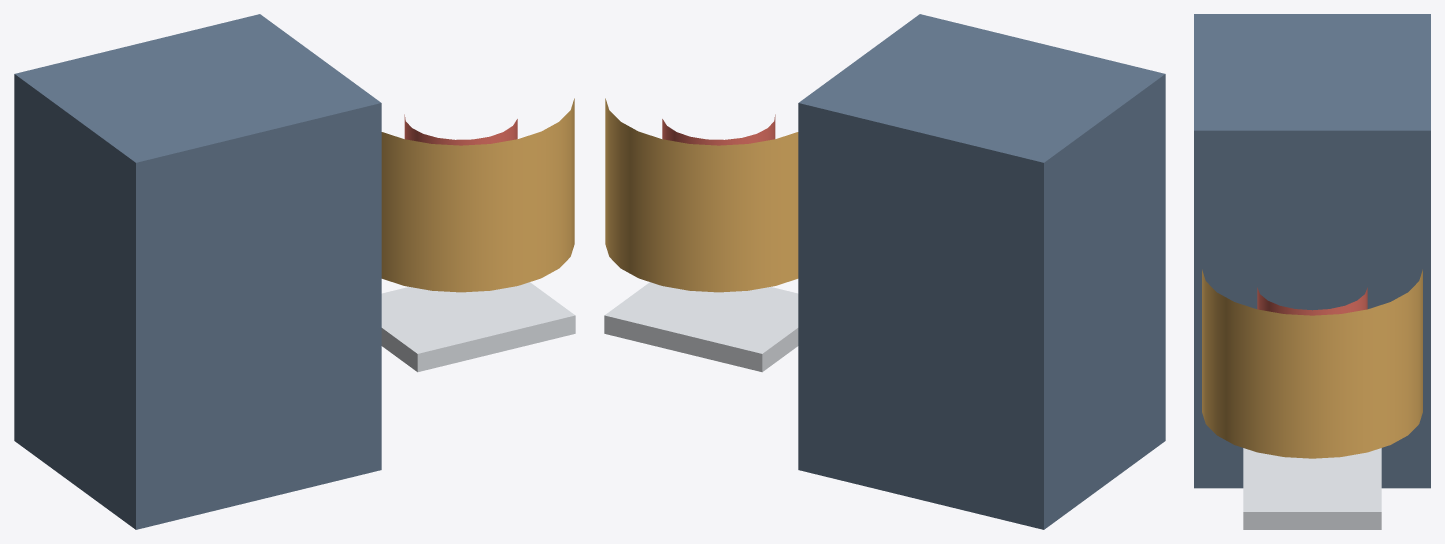
The model's file is dielectric_induction_heating.glb.
The picture shows the model from 3 angles, left to right: view 1: azimuth 30°, elevation 25°; view 2: azimuth 150°, elevation 25°; view 3: azimuth 270°, elevation 25°; orthographic projection. The views are drawn at different scales.
Parts seen in each view (by area): view 1: RFPowerGeneratorCabinet, WaterCooledInductionWorkCoil, DielectricParallelPlatesFixture, SolidSteelWorkpieceBillet; view 2: RFPowerGeneratorCabinet, WaterCooledInductionWorkCoil, DielectricParallelPlatesFixture, SolidSteelWorkpieceBillet; view 3: RFPowerGeneratorCabinet, WaterCooledInductionWorkCoil, DielectricParallelPlatesFixture, SolidSteelWorkpieceBillet.
Boxes of the visible parts, box(x1,y1,x2,y2) form: RFPowerGeneratorCabinet: box(14, 14, 381, 529); WaterCooledInductionWorkCoil: box(381, 98, 574, 292); DielectricParallelPlatesFixture: box(381, 282, 575, 372); SolidSteelWorkpieceBillet: box(404, 114, 517, 145); RFPowerGeneratorCabinet: box(798, 14, 1165, 529); WaterCooledInductionWorkCoil: box(605, 98, 798, 292); DielectricParallelPlatesFixture: box(604, 282, 798, 372); SolidSteelWorkpieceBillet: box(662, 114, 775, 145); RFPowerGeneratorCabinet: box(1194, 14, 1430, 488); WaterCooledInductionWorkCoil: box(1202, 269, 1422, 458); DielectricParallelPlatesFixture: box(1243, 448, 1381, 529); SolidSteelWorkpieceBillet: box(1257, 287, 1367, 315).
Bounding box in the file's own units: 1.38 × 1 × 0.6.
